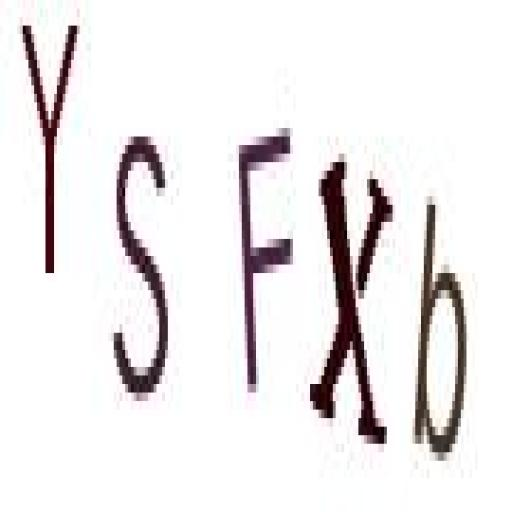F: (234, 120, 298, 405)
S: (109, 118, 174, 421)
X: (309, 145, 394, 469)
Y: (16, 11, 88, 298)
b: (411, 182, 470, 479)
